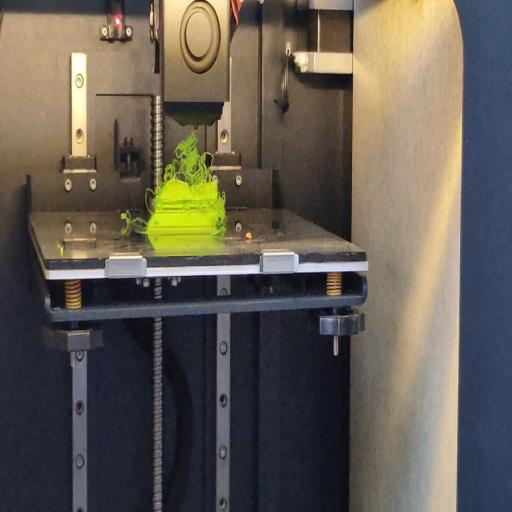spaghetti: (161, 134, 213, 182), (145, 178, 157, 216), (122, 209, 148, 225), (217, 223, 227, 232)
